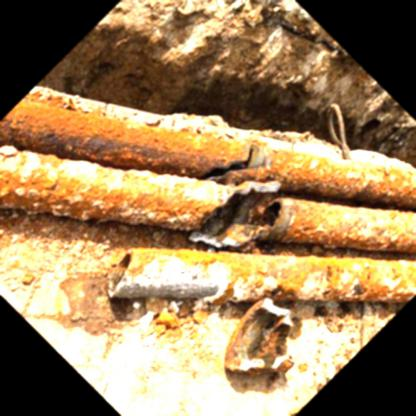burst: (209, 179, 301, 262)
